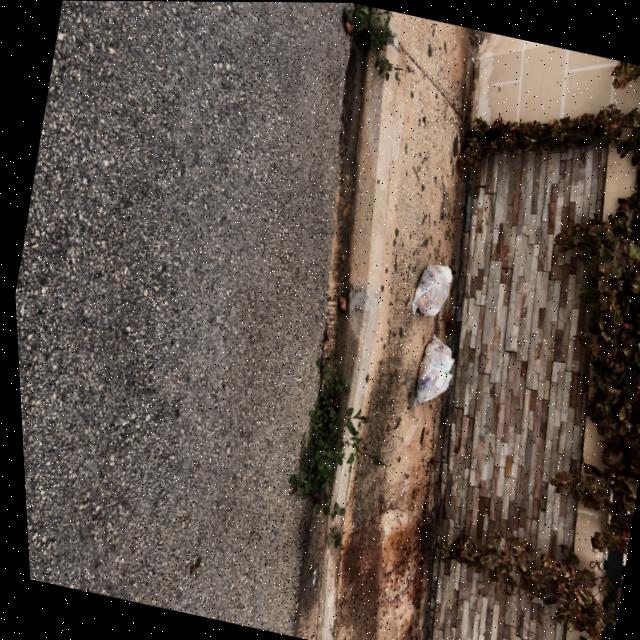Organic Waste -White Bag-: (405, 336, 458, 408), (401, 255, 456, 322)
